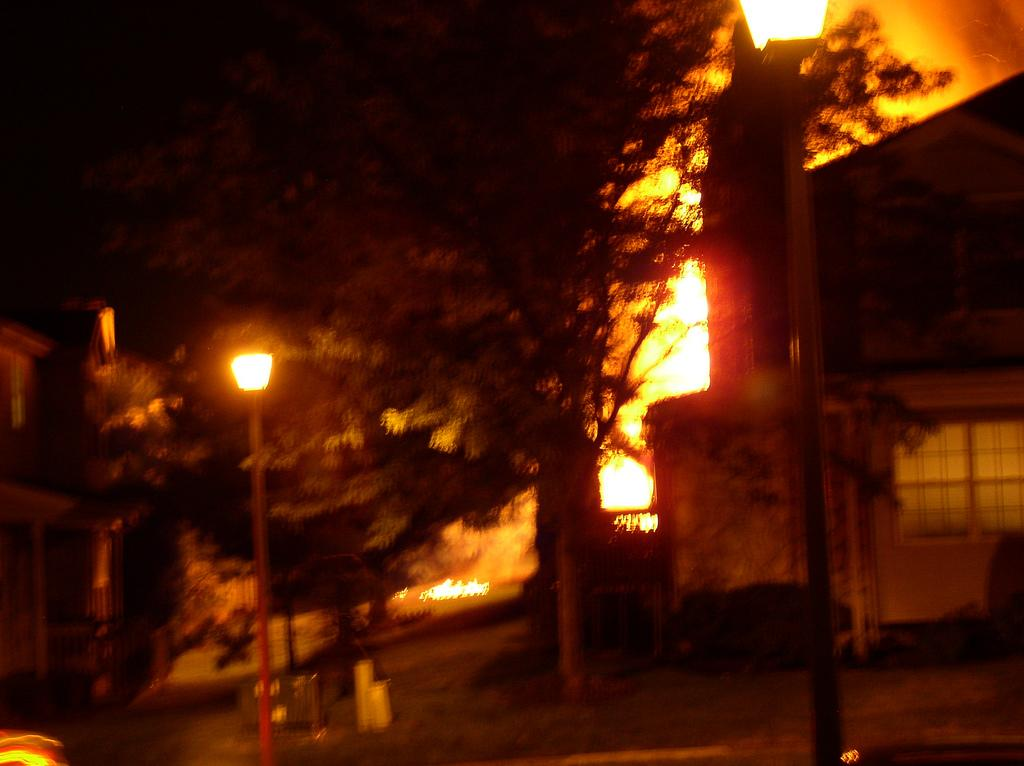fire: (644, 252, 738, 398), (588, 452, 666, 520)
